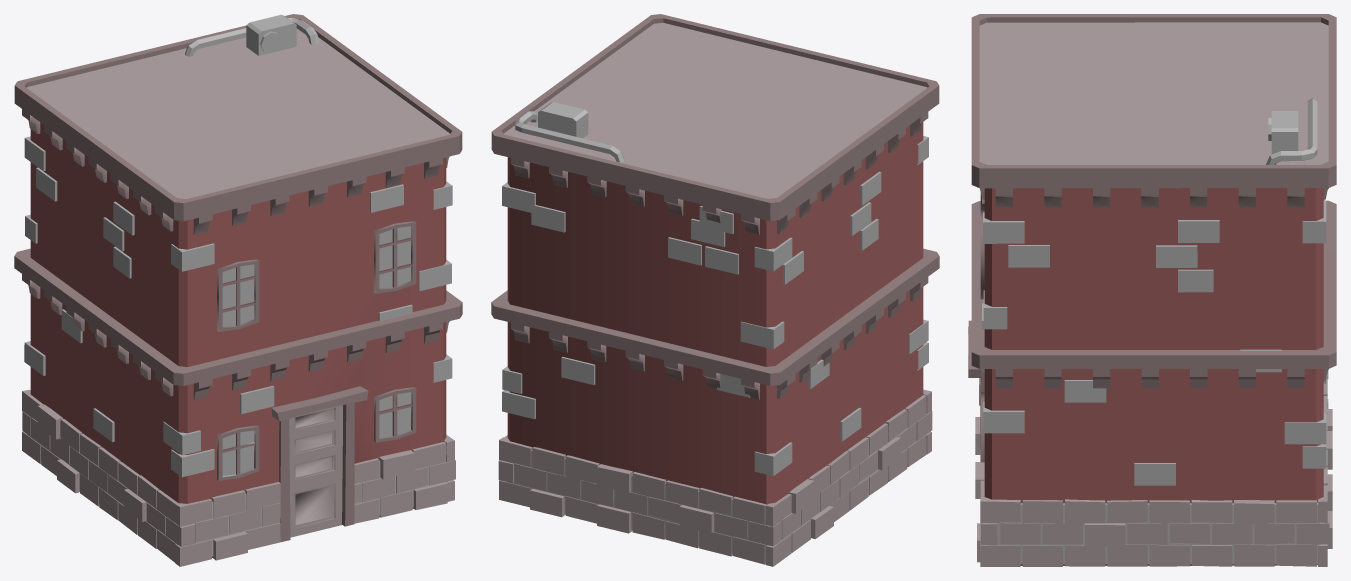
Rendered from red house one texture atlas.fbx.
3 views of the same model, side by side, from view 1: azimuth 30°, elevation 25°; view 2: azimuth 150°, elevation 25°; view 3: azimuth 270°, elevation 25° (orthographic). The views are drawn at different scales.
Visible parts, largest first — view 1: _2_story_dark_red_house; view 2: _2_story_dark_red_house; view 3: _2_story_dark_red_house.
Part boxes in pixels (x1,y1,x2,y2): _2_story_dark_red_house: [14, 14, 462, 566]; _2_story_dark_red_house: [491, 14, 939, 566]; _2_story_dark_red_house: [968, 14, 1336, 566].
Bounding box in the file's own units: 922 × 1180 × 929.
